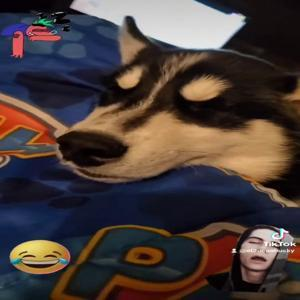nasal_discharge: (52, 146, 76, 169)
